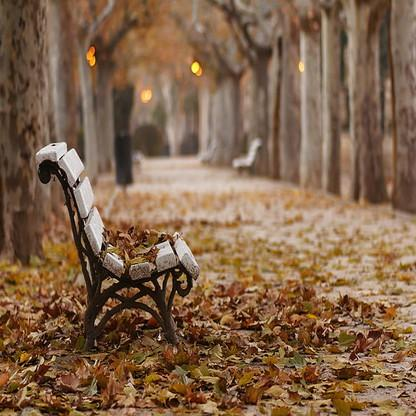obstacle: (26, 129, 210, 359)
